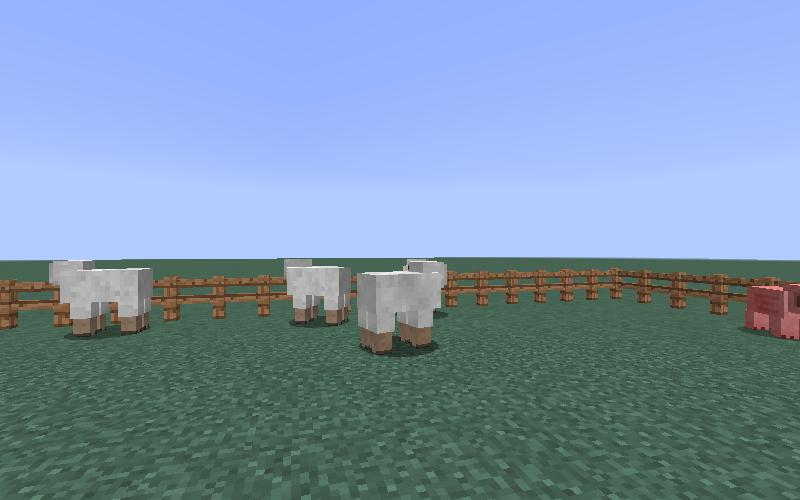pig: (742, 281, 800, 341)
sheep: (352, 253, 452, 361), (40, 255, 154, 345), (278, 253, 351, 337)
